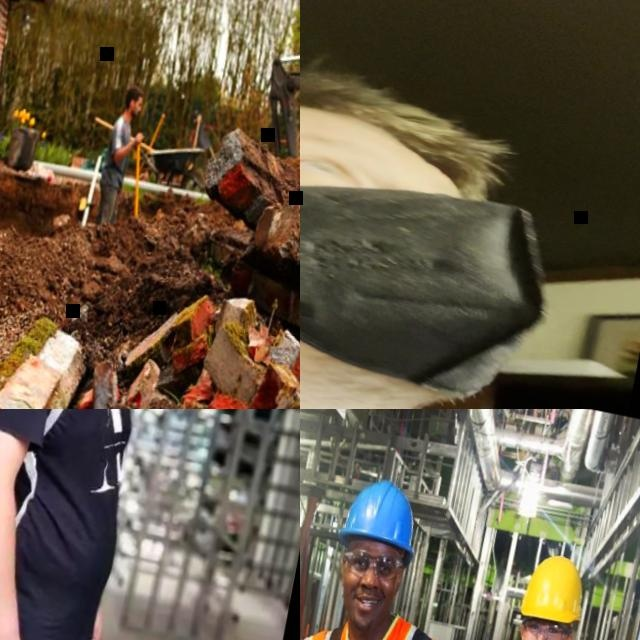Hardhat: (335, 475, 429, 563), (517, 551, 590, 629)
Mask: (300, 118, 567, 409)
NO-Hardhat: (300, 18, 479, 181), (126, 82, 144, 99)
NO-Mask: (338, 583, 392, 634), (132, 103, 142, 116)
NO-Safety Vest: (0, 409, 158, 640), (98, 114, 137, 190)
Person: (300, 8, 640, 409), (0, 409, 192, 640), (300, 462, 515, 640), (416, 542, 640, 640), (90, 80, 154, 234)
